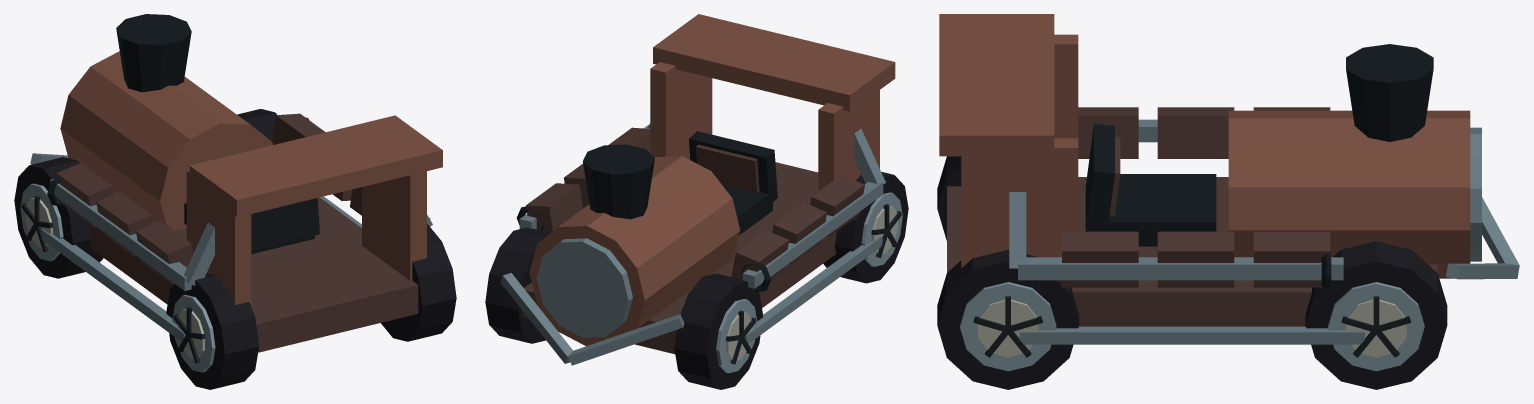
Rendered from kart.glb.
The picture shows the model from 3 angles, left to right: view 1: azimuth 30°, elevation 25°; view 2: azimuth 150°, elevation 25°; view 3: azimuth 270°, elevation 25°; orthographic projection. The views are drawn at different scales.
Parts seen in each view (by area): view 1: identity-train-locomotive-boiler-and-cowcatcher, wheel-rear-left, identity-train-motif-armor, wheel-front-left, wheel-rear-right, identity-train-motif-pipes, identity-train-driver-cockpit, wheel-front-right; view 2: identity-train-locomotive-boiler-and-cowcatcher, wheel-front-left, identity-train-motif-armor, identity-train-driver-cockpit, wheel-rear-left, wheel-front-right, identity-train-motif-pipes; view 3: identity-train-locomotive-boiler-and-cowcatcher, identity-train-motif-armor, wheel-front-right, wheel-rear-right, identity-train-driver-cockpit, identity-train-motif-pipes, wheel-rear-left.
Part boxes in pixels (bbox=[...]): identity-train-locomotive-boiler-and-cowcatcher: bbox=[30, 14, 442, 352]; wheel-rear-left: bbox=[166, 273, 259, 389]; identity-train-motif-armor: bbox=[56, 113, 361, 284]; wheel-front-left: bbox=[14, 157, 103, 278]; wheel-rear-right: bbox=[381, 223, 456, 341]; identity-train-motif-pipes: bbox=[47, 117, 432, 290]; identity-train-driver-cockpit: bbox=[184, 198, 319, 254]; wheel-front-right: bbox=[237, 109, 276, 141]; identity-train-locomotive-boiler-and-cowcatcher: bbox=[500, 14, 895, 365]; wheel-front-left: bbox=[674, 273, 762, 389]; identity-train-motif-armor: bbox=[526, 127, 864, 291]; identity-train-driver-cockpit: bbox=[689, 131, 777, 235]; wheel-rear-left: bbox=[823, 171, 908, 283]; wheel-front-right: bbox=[485, 227, 550, 343]; identity-train-motif-pipes: bbox=[516, 123, 885, 292]; identity-train-locomotive-boiler-and-cowcatcher: bbox=[939, 14, 1519, 344]; identity-train-motif-armor: bbox=[1062, 107, 1330, 287]; wheel-front-right: bbox=[1305, 241, 1447, 389]; wheel-rear-right: bbox=[937, 249, 1079, 389]; identity-train-driver-cockpit: bbox=[1085, 124, 1216, 246]; identity-train-motif-pipes: bbox=[1009, 119, 1343, 289]; wheel-rear-left: bbox=[937, 156, 961, 240].
Bounding box in the file's own units: 1.94 × 1.49 × 3.04.
